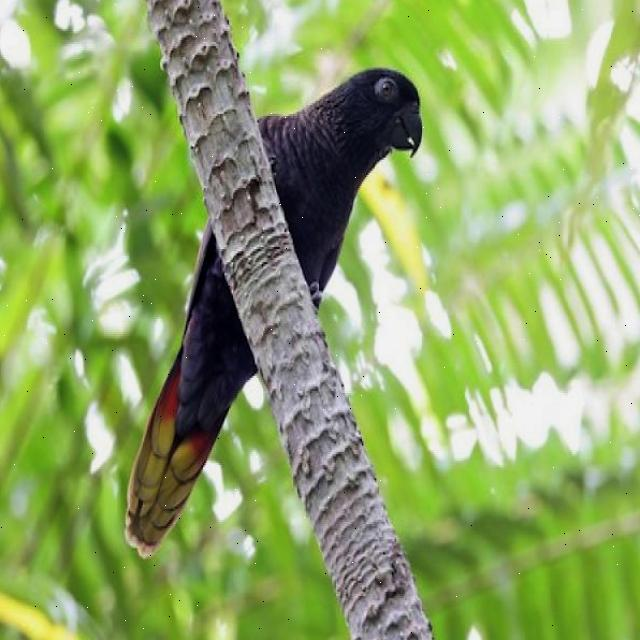Nuri Hitam: (117, 50, 441, 552)
